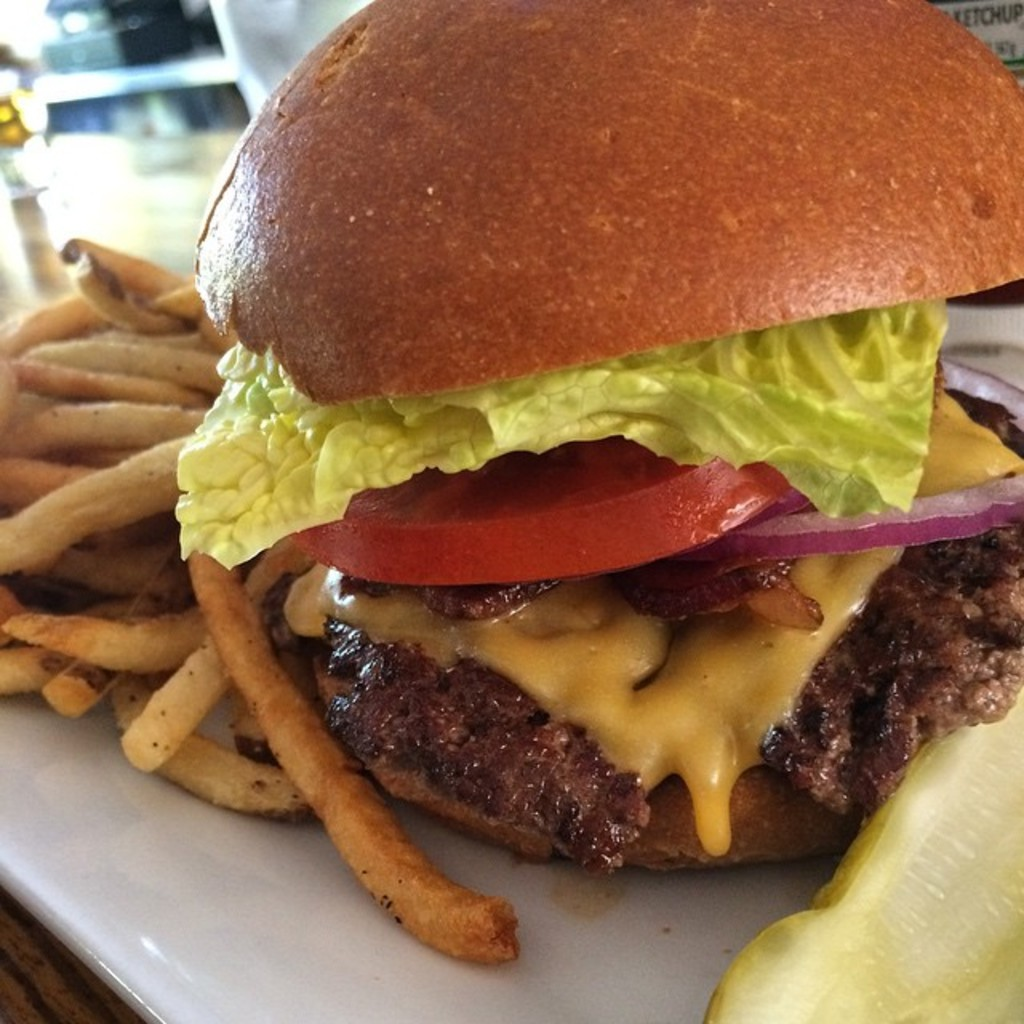Hamburger: (167, 1, 1022, 876)
